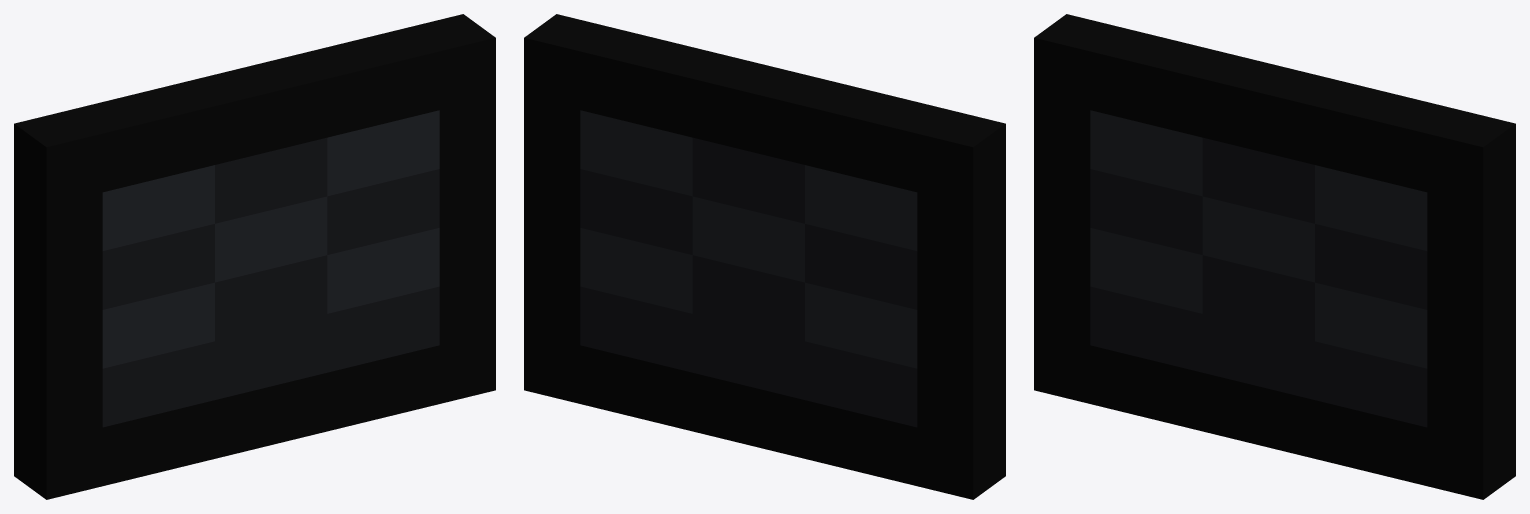
The model's file is Black Carpet.glb.
The picture shows the model from 3 angles, left to right: view 1: azimuth 30°, elevation 25°; view 2: azimuth 150°, elevation 25°; view 3: azimuth 330°, elevation 25°; orthographic projection.
Visible parts, largest first — view 1: generated(Clone); view 2: generated(Clone); view 3: generated(Clone).
Part boxes in pixels (x1,y1,x2,y2): generated(Clone): [14, 14, 495, 499]; generated(Clone): [524, 14, 1005, 499]; generated(Clone): [1034, 14, 1515, 499].
Size of the model in its own units: 8 by 6 by 1.
Materials: 1 (1 with a texture image).
